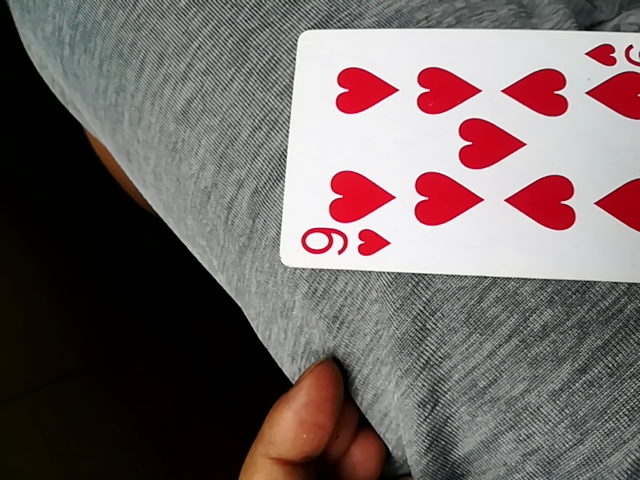hx 9: (277, 28, 640, 286)
